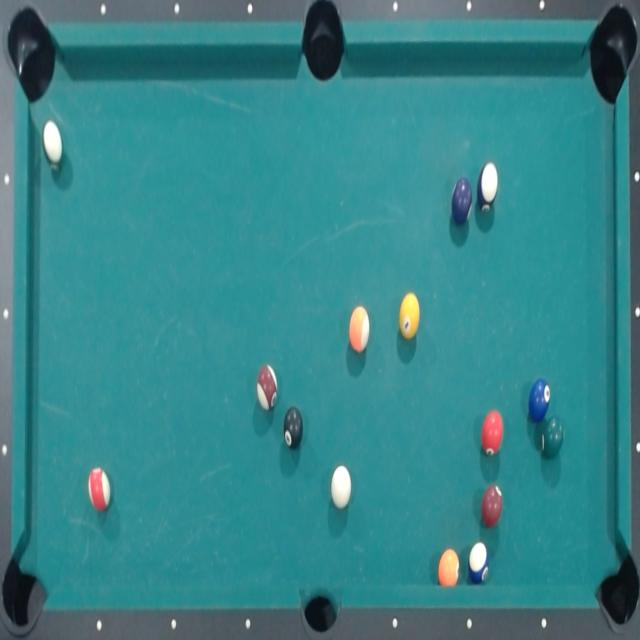black_8ball: (281, 406, 304, 451)
blue_solid: (527, 376, 551, 425)
blue_stripe: (466, 542, 490, 583)
cue_ball: (330, 464, 352, 510)
green_solid: (540, 414, 564, 460)
green_stripe: (40, 118, 64, 178)
maroon_solid: (480, 484, 503, 526)
maroon_stripe: (256, 364, 278, 411)
orange_solid: (438, 548, 460, 586)
orange_stripe: (348, 304, 371, 354)
purple_solid: (450, 176, 473, 227)
purple_stripe: (475, 160, 499, 213)
red_solid: (479, 409, 504, 457)
red_stripe: (86, 466, 112, 516)
yellow_solid: (398, 290, 421, 341)
